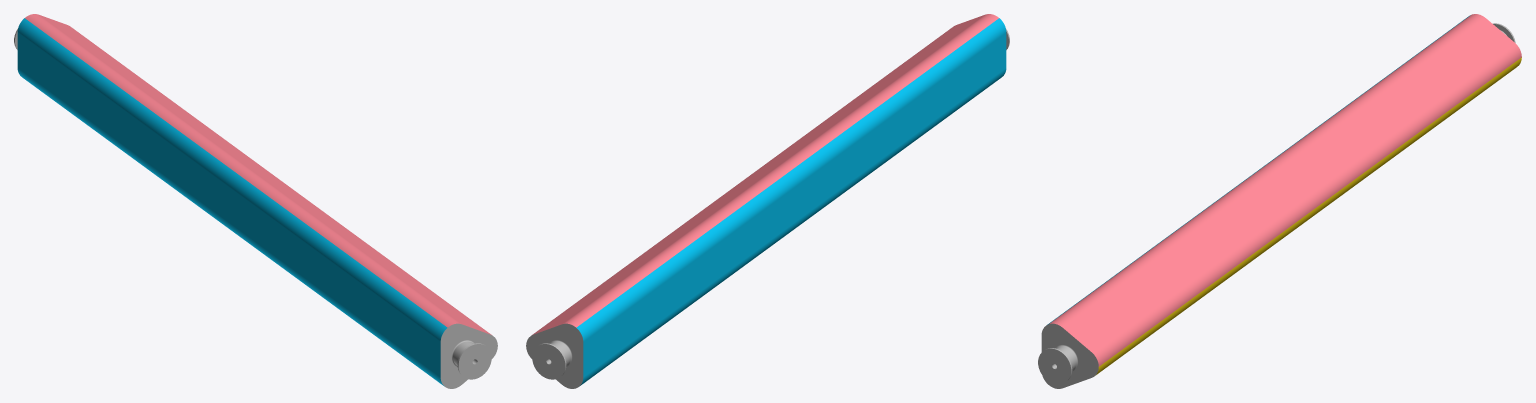
Rendered from toggle_v2.gltf.
3 renders of one model, left to right at view 1: azimuth 30°, elevation 25°; view 2: azimuth 150°, elevation 25°; view 3: azimuth 330°, elevation 25°, orthographic.
Parts seen in each view (by area): view 1: Roller - Main; view 2: Roller - Main; view 3: Roller - Main.
Boxes of the visible parts, <box> form: Roller - Main: <box>14,14,497,388</box>; Roller - Main: <box>526,14,1009,388</box>; Roller - Main: <box>1038,14,1521,388</box>.
Bounding box in the file's own units: 0.0516 × 0.0556 × 0.6936.
